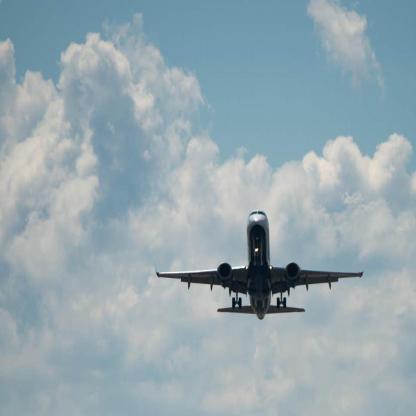CIV_Plane: (149, 208, 366, 321)
